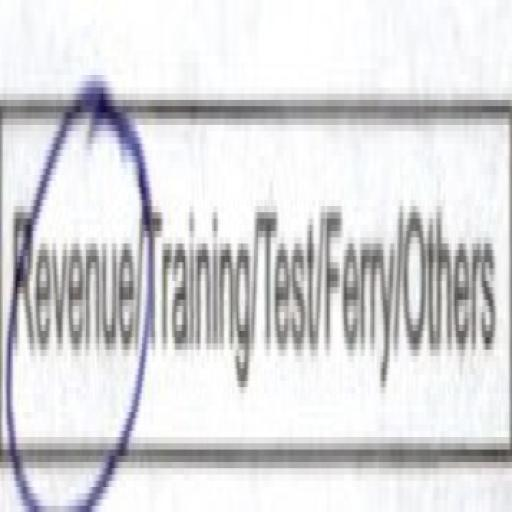check: (3, 52, 142, 446)
